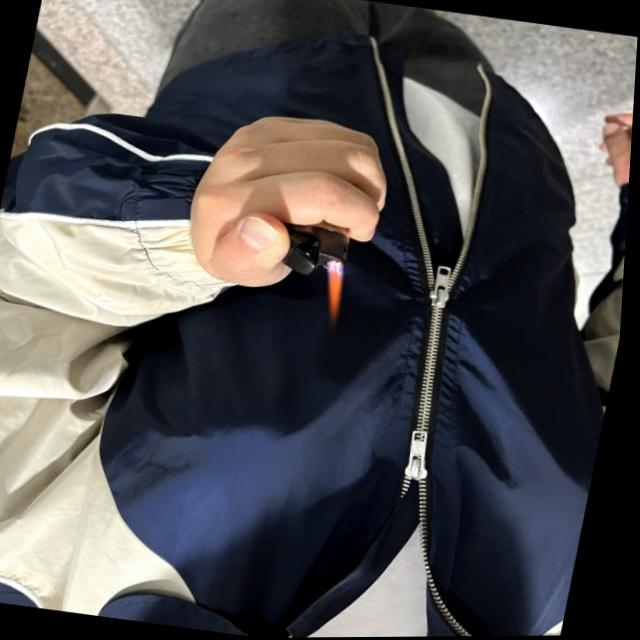Fire: (316, 267, 353, 327)
